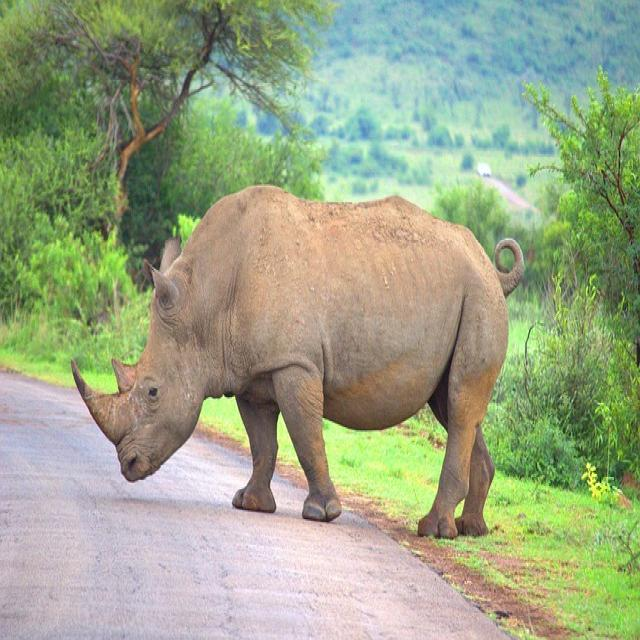Herbivorous: (70, 186, 525, 540)
